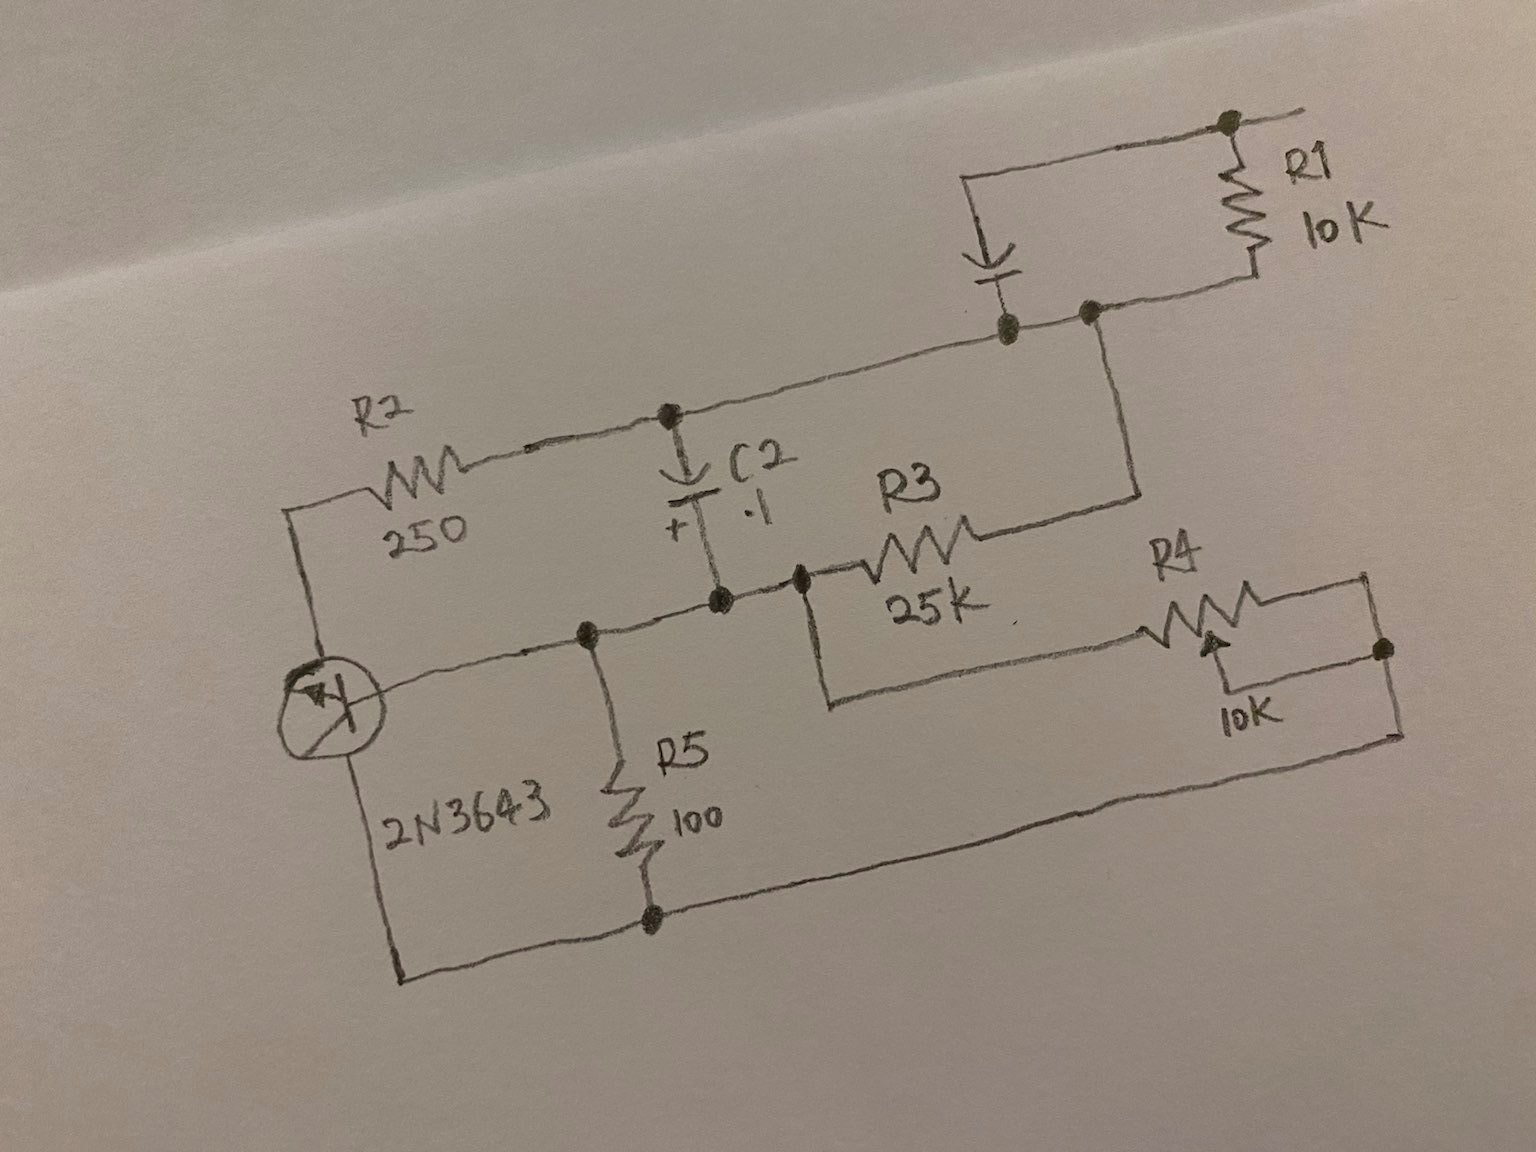capacitor.polarized: (657, 460, 723, 545)
capacitor.unpolarized: (955, 242, 1032, 290)
junction: (1066, 286, 1124, 341), (564, 609, 614, 662), (1206, 97, 1260, 145), (645, 390, 699, 436), (630, 894, 679, 945), (697, 575, 745, 624), (1359, 629, 1410, 676), (262, 486, 313, 532), (780, 555, 830, 601), (989, 306, 1035, 352), (381, 960, 428, 1000), (1381, 718, 1425, 758), (809, 680, 848, 725), (1344, 555, 1382, 600), (951, 160, 989, 198), (1122, 472, 1159, 509), (1231, 259, 1271, 292), (1219, 684, 1242, 698)
resistor: (850, 515, 988, 581), (597, 754, 666, 883), (353, 447, 478, 509), (1211, 159, 1277, 255)
resistor.adjustable: (1134, 578, 1268, 659)
terminal: (1274, 83, 1347, 127)
text: (373, 779, 554, 849), (885, 578, 992, 632), (1299, 200, 1394, 248), (343, 384, 423, 439), (380, 515, 472, 558), (876, 462, 943, 518), (724, 434, 801, 482), (1215, 696, 1290, 741), (652, 727, 714, 781), (1147, 524, 1202, 582), (1282, 137, 1341, 190), (669, 802, 727, 841), (743, 485, 783, 530)
transistor: (272, 647, 402, 764)
